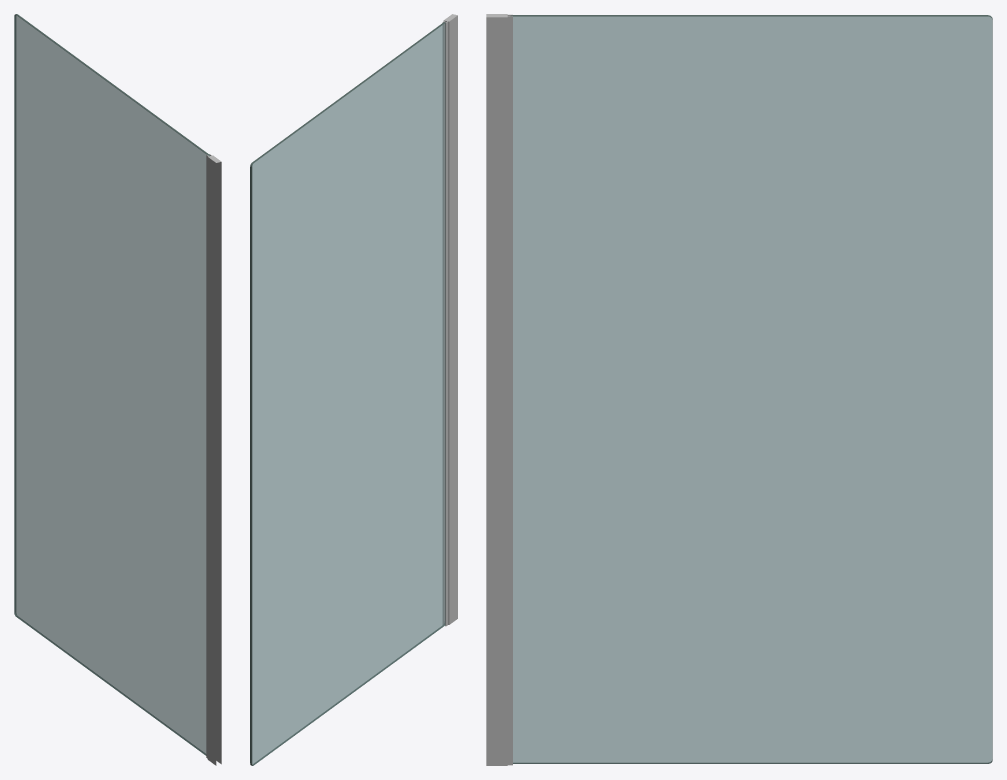
Rendered from SM_Partition_01.fbx.
3 views of the same model, side by side, from view 1: azimuth 30°, elevation 25°; view 2: azimuth 150°, elevation 25°; view 3: azimuth 270°, elevation 25° (orthographic). The views are drawn at different scales.
Visible parts, largest first — view 1: SM_Partition_01; view 2: SM_Partition_01; view 3: SM_Partition_01.
Part boxes in pixels (bbox=[...]): SM_Partition_01: bbox=[14, 14, 221, 765]; SM_Partition_01: bbox=[250, 14, 457, 765]; SM_Partition_01: bbox=[486, 14, 992, 765].
Bounding box in the file's own units: 2.8 × 297 × 182.
